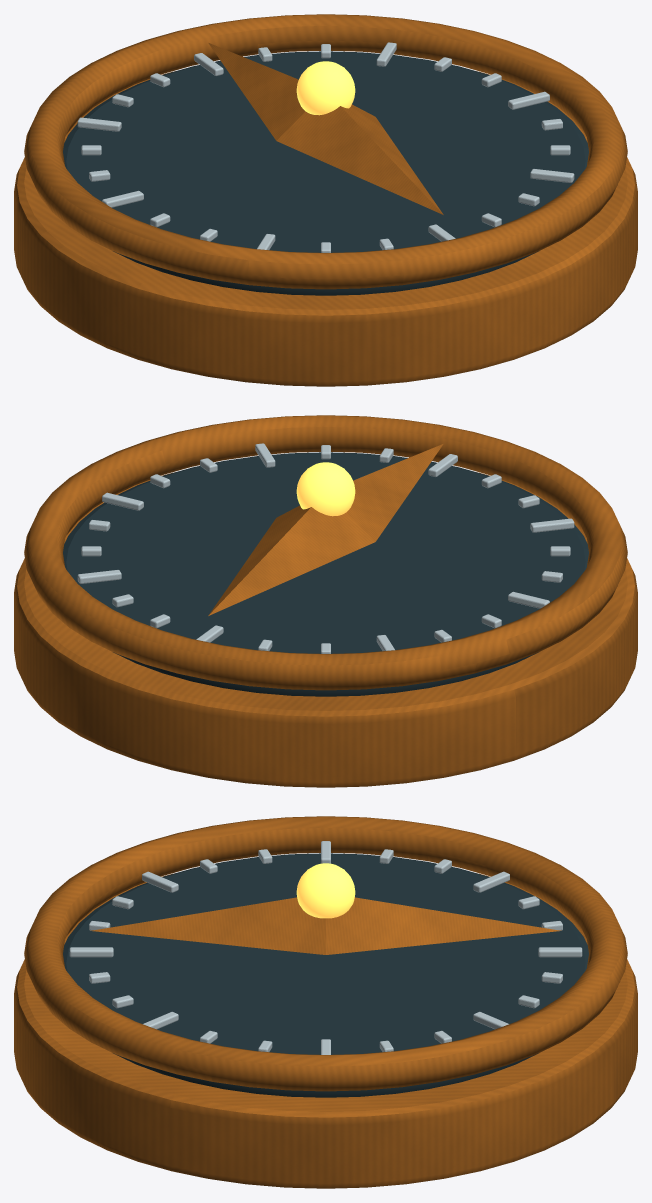
File: relic_00.glb
3 views of the same model, one above another, from view 1: azimuth 30°, elevation 25°; view 2: azimuth 150°, elevation 25°; view 3: azimuth 270°, elevation 25° (orthographic).
Parts seen in each view (by area): view 1: Brushed_gold, Obsidian, Antique_silver, Warm_amber; view 2: Brushed_gold, Obsidian, Antique_silver, Warm_amber; view 3: Brushed_gold, Obsidian, Antique_silver, Warm_amber.
Part boxes in pixels (left/top/right/bottom): Brushed_gold: left=14, top=14, right=637, bottom=386; Obsidian: left=63, top=51, right=588, bottom=295; Antique_silver: left=77, top=42, right=574, bottom=252; Warm_amber: left=296, top=61, right=355, bottom=115; Brushed_gold: left=14, top=415, right=637, bottom=787; Obsidian: left=63, top=452, right=588, bottom=696; Antique_silver: left=77, top=443, right=574, bottom=653; Warm_amber: left=296, top=462, right=355, bottom=516; Brushed_gold: left=14, top=816, right=637, bottom=1188; Obsidian: left=63, top=853, right=588, bottom=1097; Antique_silver: left=69, top=841, right=582, bottom=1054; Warm_amber: left=296, top=863, right=355, bottom=918.
Bounding box in the file's own units: 0.74 × 0.255 × 0.74.
Materials: 4 (1 with a texture image).
